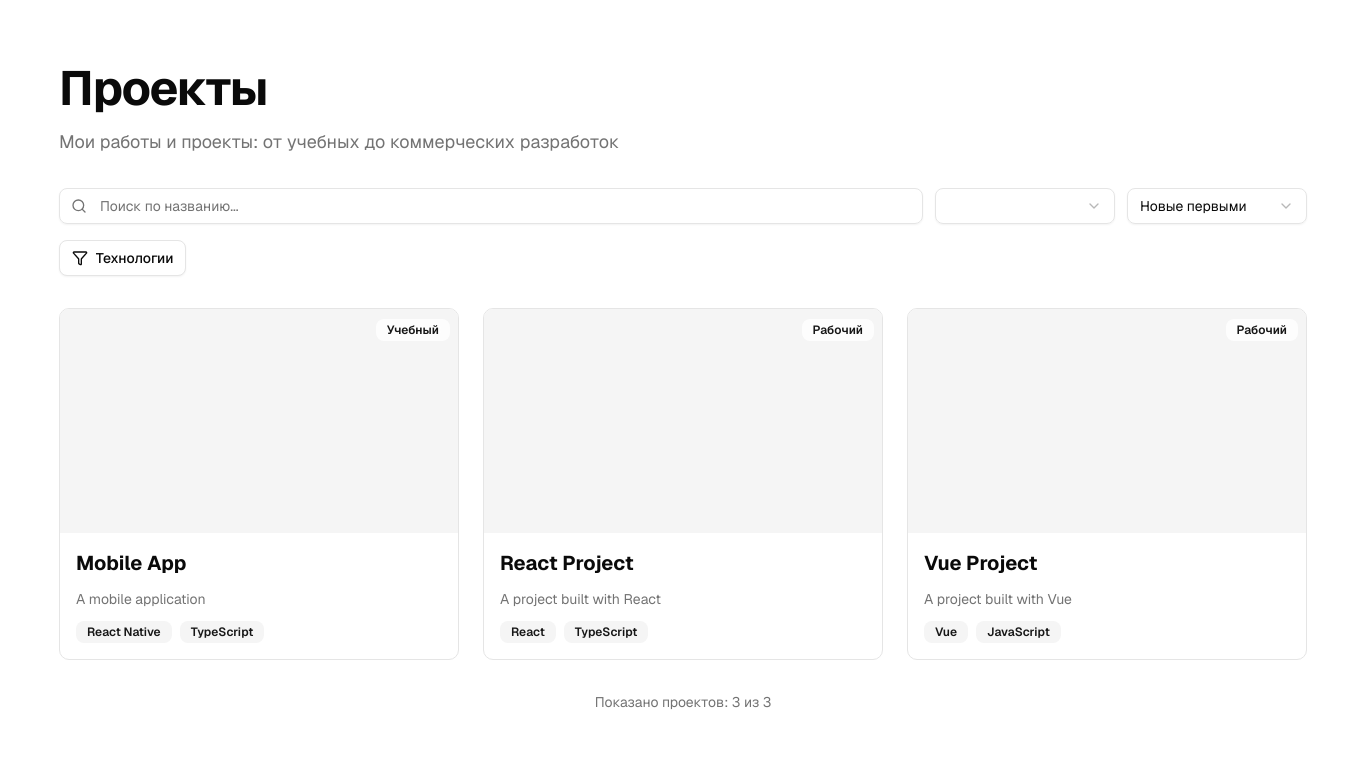
Test: Project Filtering Integration › сбрасывает фильтры
Expected: the heading "React Project" is shown, [500,550,634,576]
Type "NonExistent" into the field with placeholder "Поиск по названию..." at x=491, y=206, box [59,188,923,224]
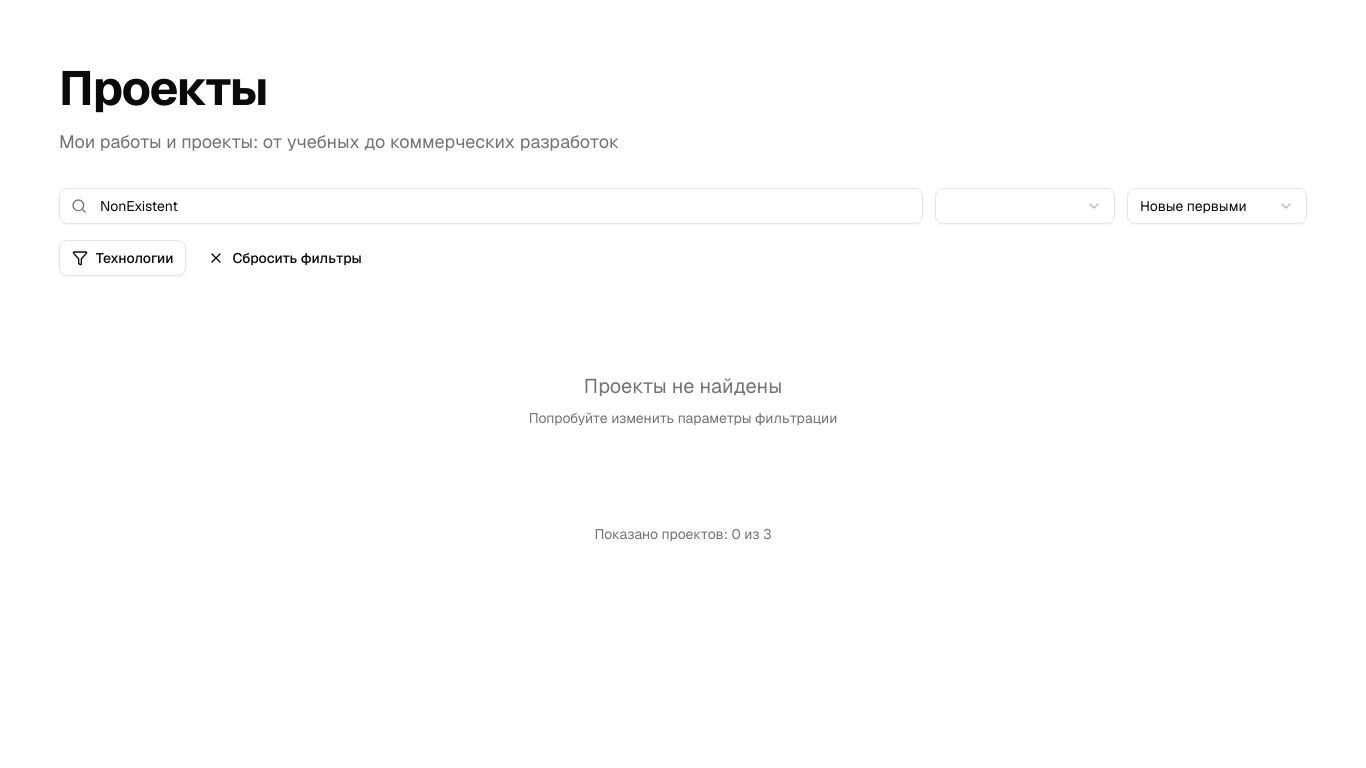
Result: the link "React Project" is gone
Click the button "Сбросить фильтры" at x=285, y=258, box [198,242,372,274]
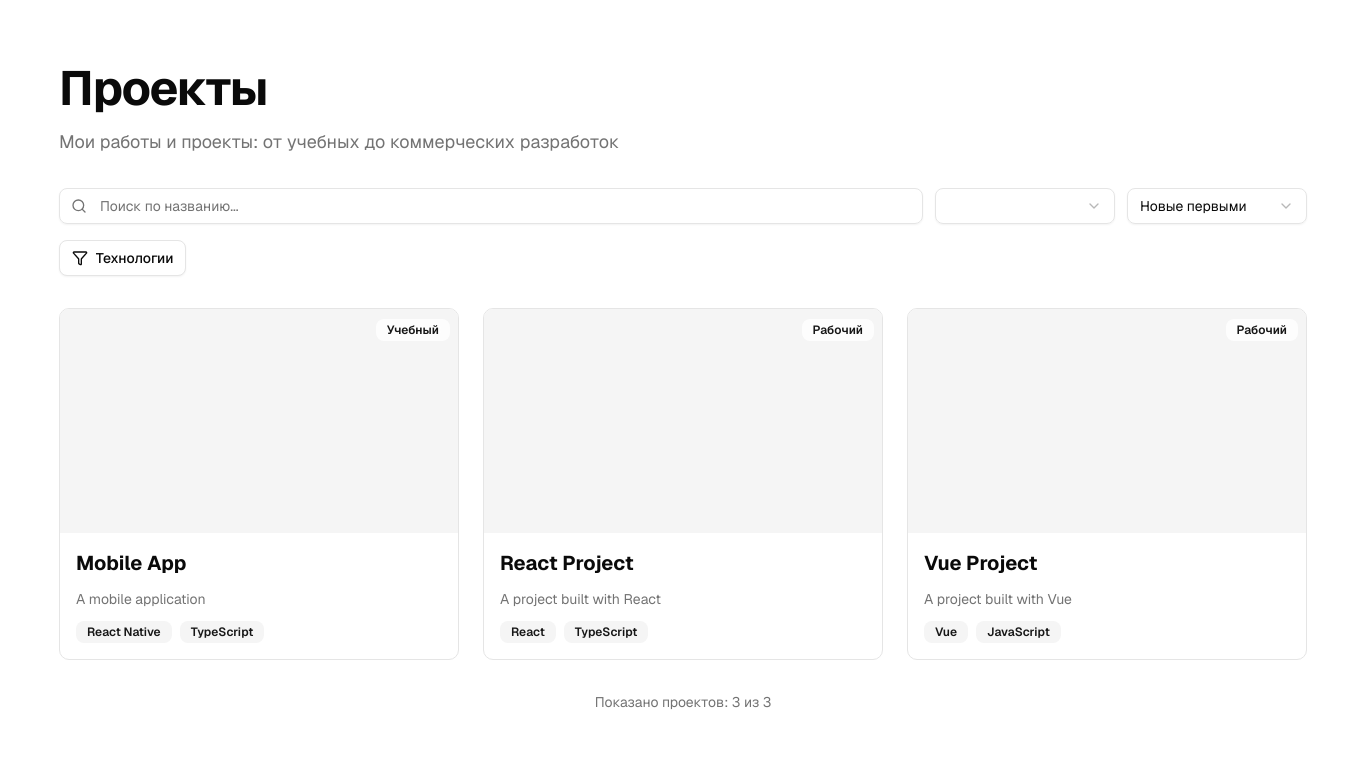
Result: the heading "React Project" is shown at [500,550,634,576]
Result: the heading "Vue Project" is shown at [924,550,1037,576]
Result: the heading "Mobile App" is shown at [76,550,186,576]
